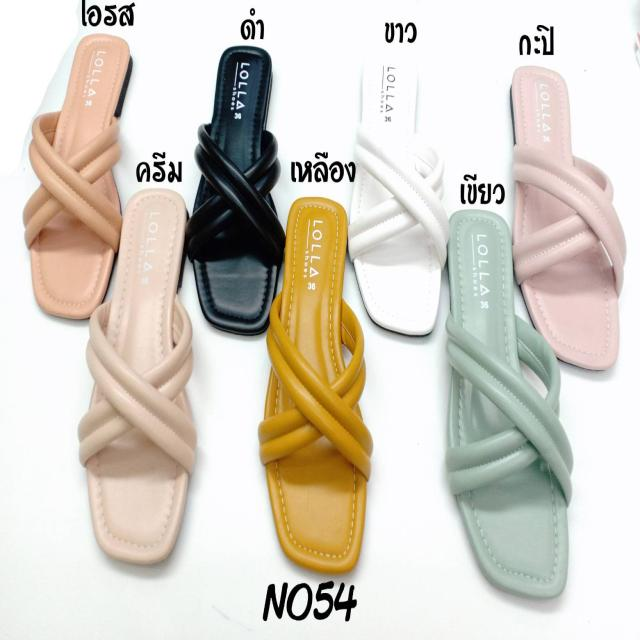black: (200, 42, 281, 326)
cream: (86, 185, 197, 560)
green: (446, 202, 569, 598)
kapi: (504, 58, 622, 372)
orot: (29, 28, 130, 317)
white: (357, 43, 444, 334)
yellow: (266, 198, 366, 572)
